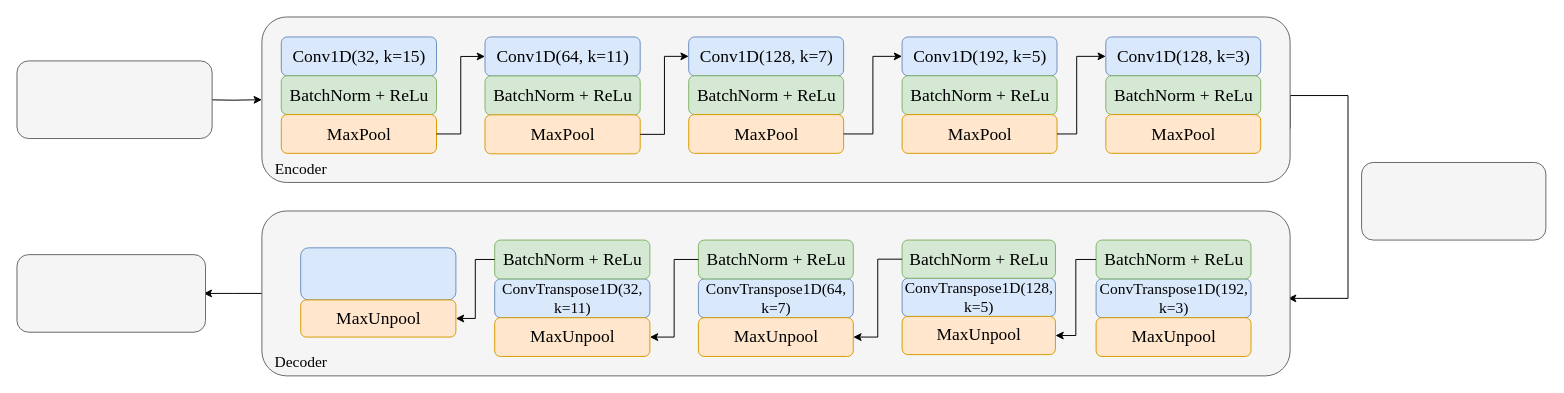
The diagram is 1564 pixels wide and 393 high, and some of its shapes have lost their labels. Here are the shapes that lost their labels. From the top down, the box of each, then its label:
(16, 60, 212, 139): Vibration signal window (DE/FE) (N, 1, 1024)
(1361, 162, 1546, 240): Latent space z (N, 128, 32)
(16, 254, 206, 332): Reconstructed vibration signal (N, 1, 1024)
(300, 247, 456, 300): ConvTranspose1D(C, k=15)
